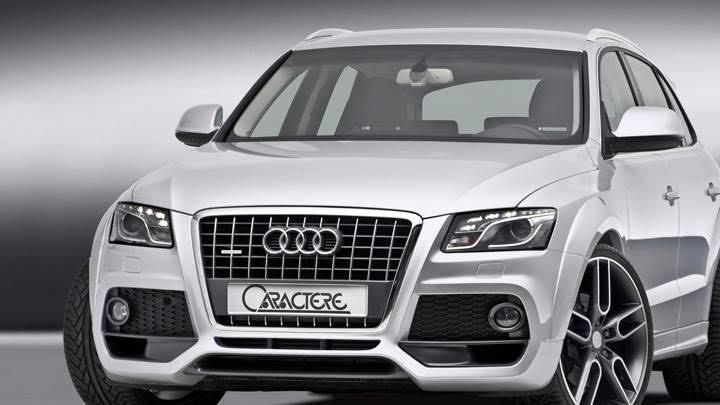audi: (48, 14, 720, 405)
